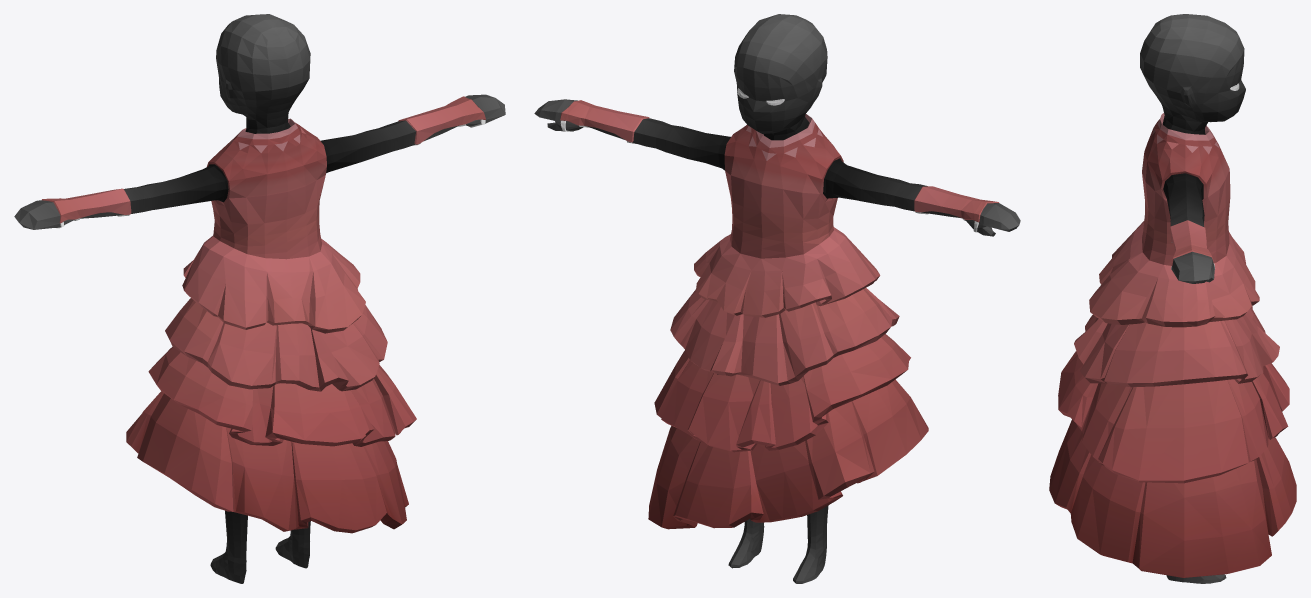
Rendered from CharSkyKid_Body_RibbonTieredDress.glb.
The picture shows the model from 3 angles, left to right: view 1: azimuth 30°, elevation 25°; view 2: azimuth 150°, elevation 25°; view 3: azimuth 270°, elevation 25°; orthographic projection.
Visible parts, largest first — view 1: CharSkyKid_Body_RibbonTieredDress; view 2: CharSkyKid_Body_RibbonTieredDress; view 3: CharSkyKid_Body_RibbonTieredDress.
Boxes of the visible parts, box(x1,y1,x2,y2) form: CharSkyKid_Body_RibbonTieredDress: box(14, 14, 505, 583); CharSkyKid_Body_RibbonTieredDress: box(534, 14, 1020, 583); CharSkyKid_Body_RibbonTieredDress: box(1049, 14, 1296, 583).
Size of the model in its own units: 13.83 by 14.94 by 6.14.
1 material, 1 textured.
